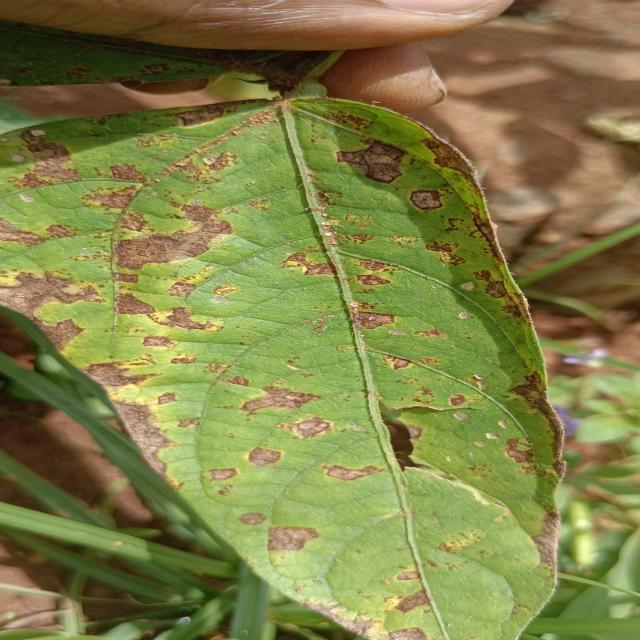Black gram_leaf spot: (0, 89, 590, 640)
